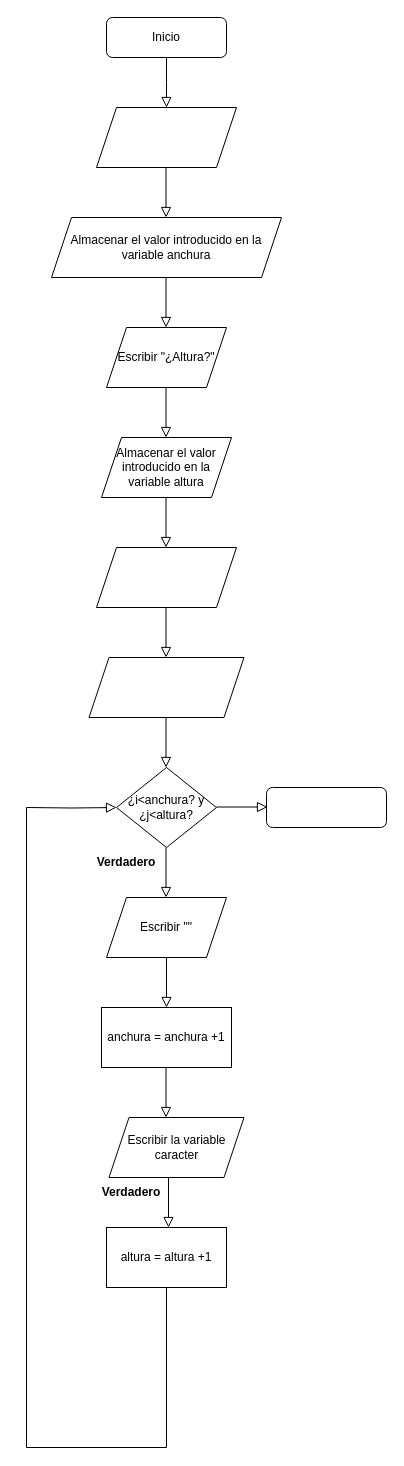
Some shapes in this 404 by 1466 pixel diagram are drawn without their labels. The centre of each missing label's shape, as x and y in pixels:
Almacenar la variable introducida en la variable caracter: point 166,687
Escribir "¿Anchura?": point 166,137
Escribir "¿Carácter?": point 166,577
Fin: point 326,807
